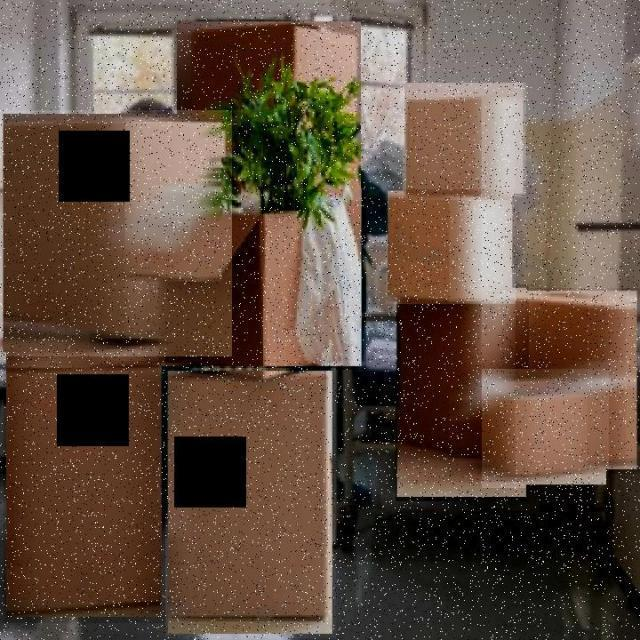box: (0, 110, 232, 357), (3, 337, 165, 623), (165, 368, 336, 638), (132, 186, 366, 370), (174, 19, 364, 201), (396, 284, 528, 502), (522, 288, 640, 474), (482, 369, 609, 488), (386, 190, 516, 304), (403, 83, 526, 199)
